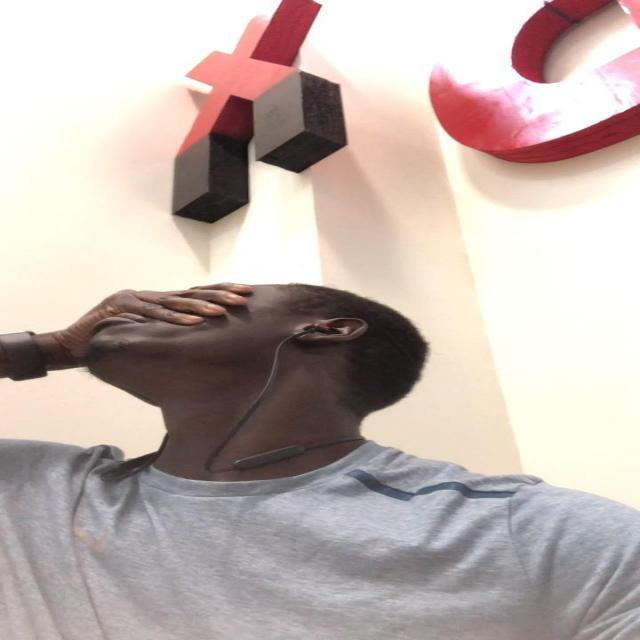face: (83, 282, 318, 404)
